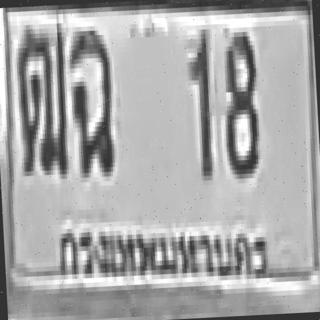A09: (67, 25, 114, 174)
A18: (12, 21, 69, 174)
N01: (185, 27, 213, 179)
N08: (218, 27, 259, 175)
P04: (54, 204, 274, 298)
